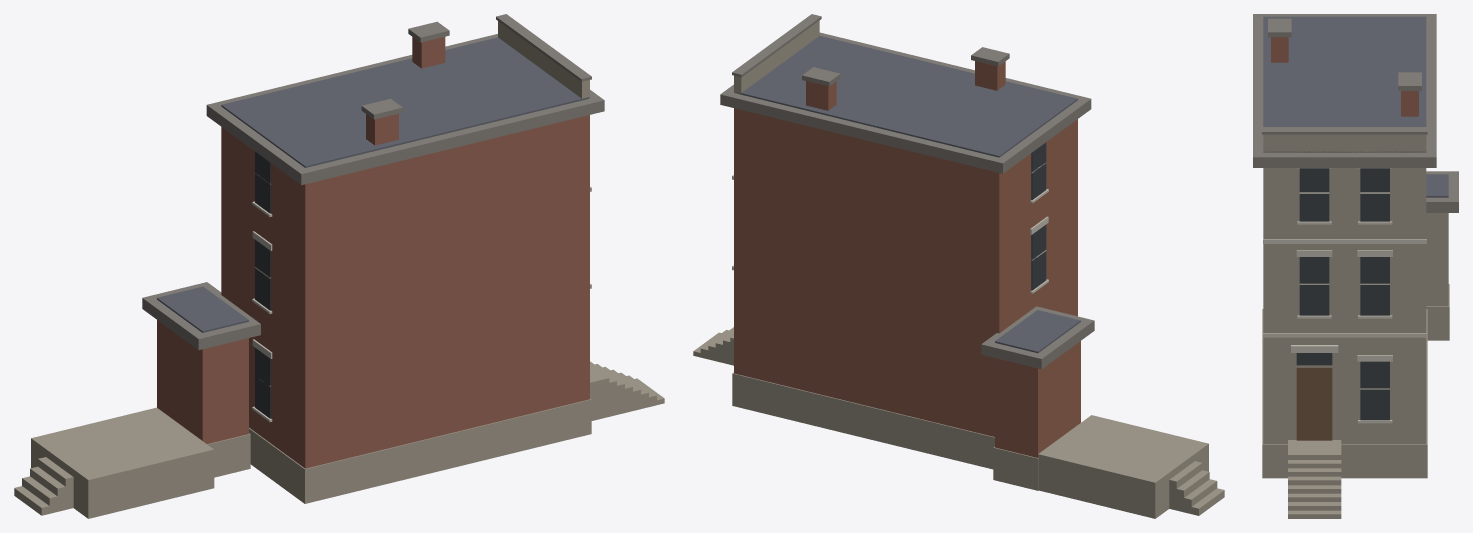
Rendered from house_1803_indiana__draft_1904.glb.
3 renders of one model, left to right at view 1: azimuth 30°, elevation 25°; view 2: azimuth 150°, elevation 25°; view 3: azimuth 270°, elevation 25°, orthographic. The views are drawn at different scales.
Visible parts, largest first — view 1: house_1803_indiana__draft_1904; view 2: house_1803_indiana__draft_1904; view 3: house_1803_indiana__draft_1904.
Boxes of the visible parts, x1=… form: house_1803_indiana__draft_1904: x1=14, y1=14, x2=664, y2=518; house_1803_indiana__draft_1904: x1=693, y1=14, x2=1224, y2=518; house_1803_indiana__draft_1904: x1=1253, y1=14, x2=1458, y2=518.
Size of the model in its own units: 22 by 13.34 by 6.95.
